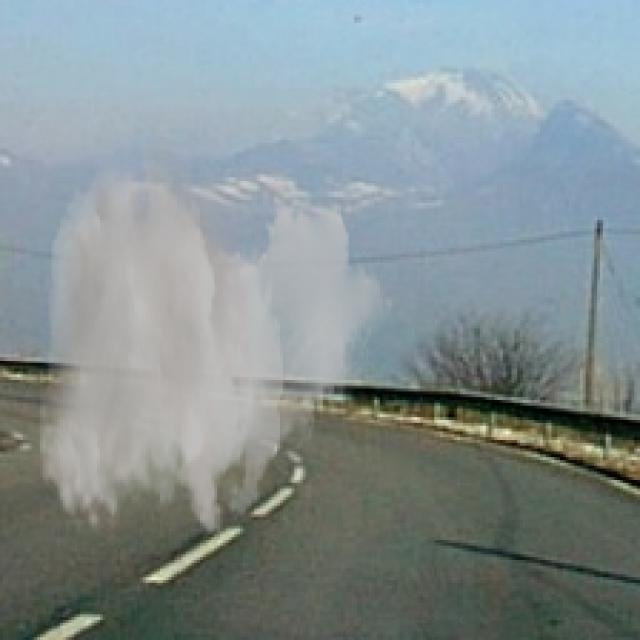smoke: (37, 114, 394, 537)
